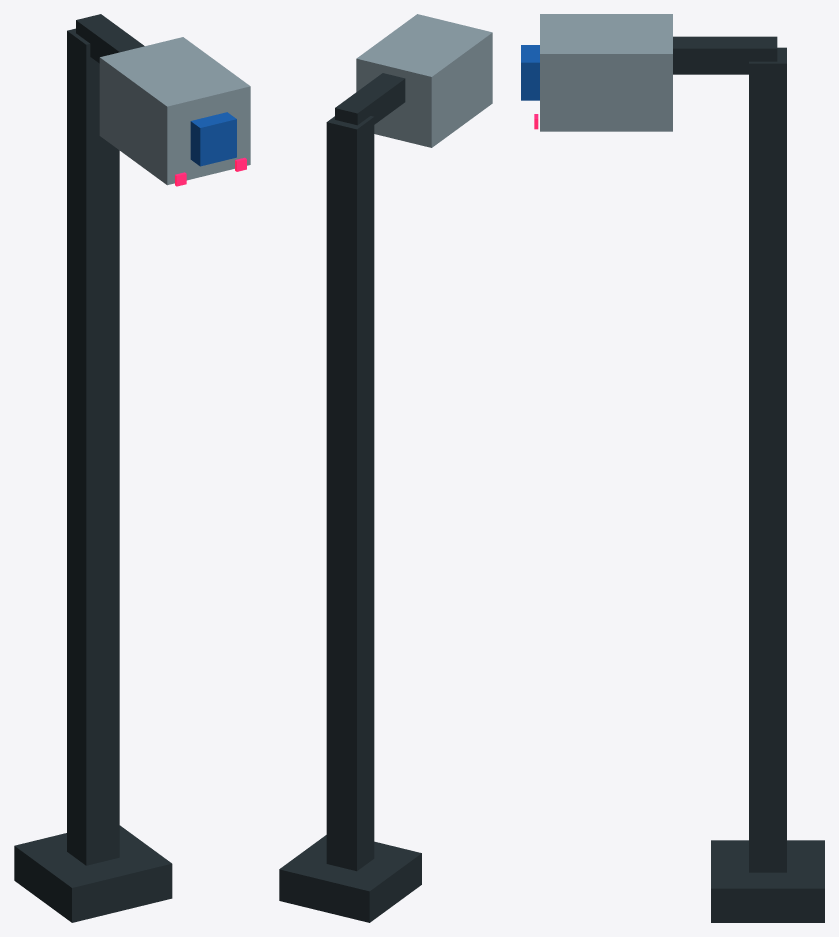
File: platecam.glb
3 renders of one model, left to right at view 1: azimuth 30°, elevation 25°; view 2: azimuth 150°, elevation 25°; view 3: azimuth 270°, elevation 25°, orthographic. The views are drawn at different scales.
Parts seen in each view (by area): view 1: Pole, Housing, Base, Lens, Arm; view 2: Pole, Housing, Base, Arm; view 3: Pole, Housing, Base, Arm, Lens.
Boxes of the visible parts, x1=… form: Pole: x1=67, y1=28, x2=119, y2=865; Housing: x1=99, y1=37, x2=250, y2=185; Base: x1=14, y1=825, x2=172, y2=922; Lens: x1=190, y1=112, x2=236, y2=166; Arm: x1=76, y1=14, x2=144, y2=63; Pole: x1=326, y1=116, x2=374, y2=871; Housing: x1=356, y1=14, x2=492, y2=147; Base: x1=279, y1=835, x2=421, y2=922; Arm: x1=335, y1=73, x2=405, y2=125; Pole: x1=749, y1=47, x2=786, y2=872; Housing: x1=540, y1=14, x2=672, y2=131; Base: x1=711, y1=840, x2=824, y2=922; Arm: x1=673, y1=36, x2=777, y2=74; Lens: x1=521, y1=45, x2=539, y2=100.
Bounding box in the file's own units: 0.6 × 5.03 × 1.6.
